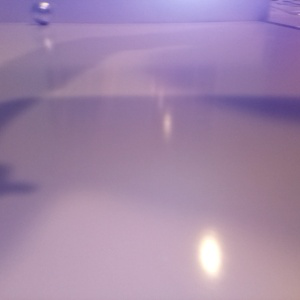alive_ball: (31, 1, 54, 24)
